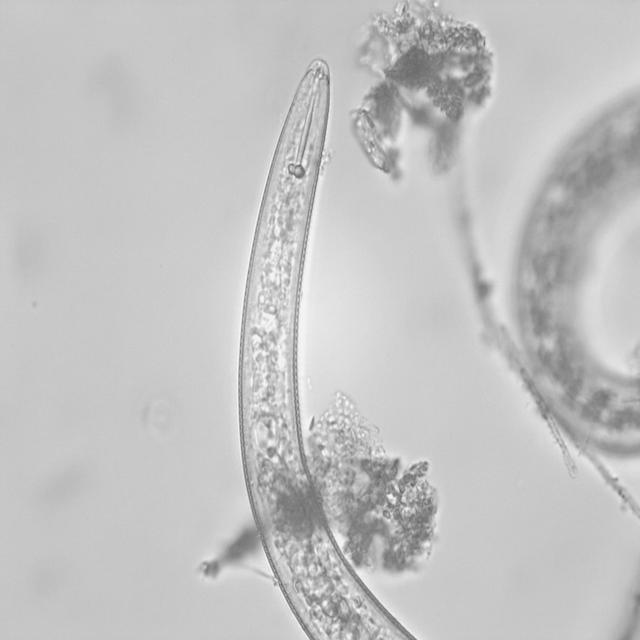Helicotylenchus: (235, 52, 429, 640)
